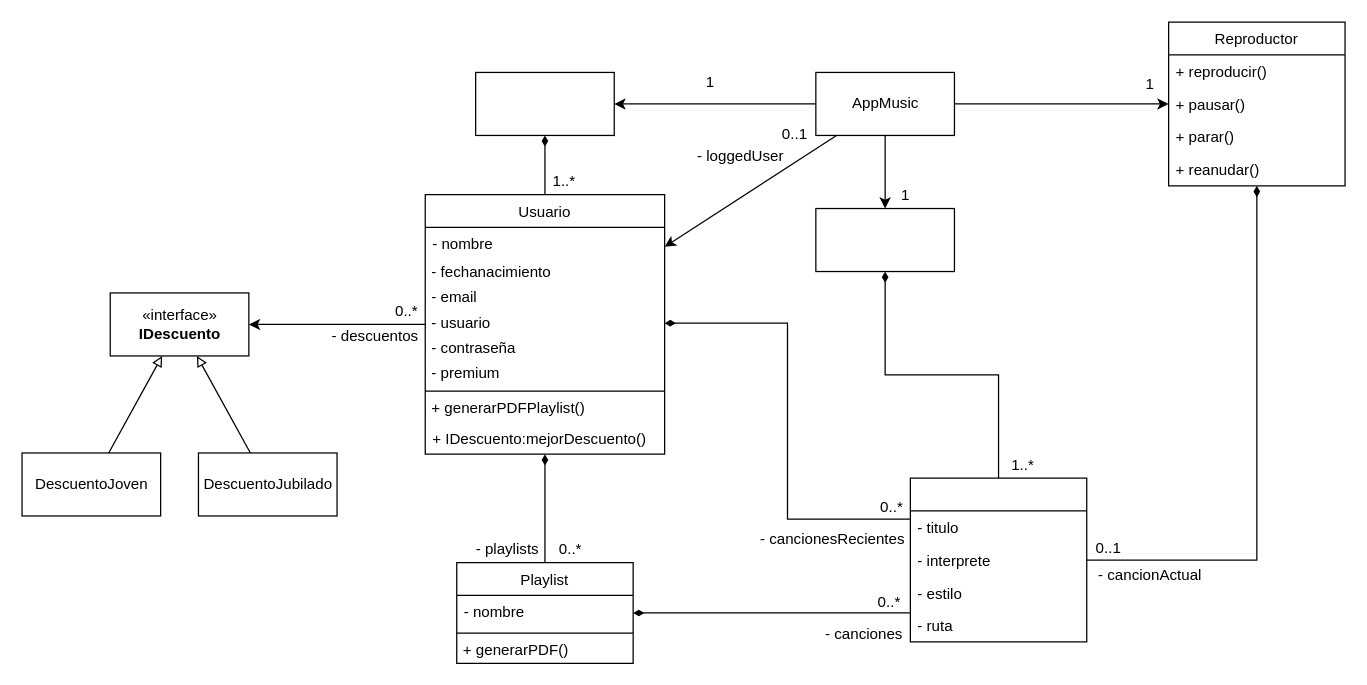
Some shapes in this 1367 by 685 pixel diagram are drawn without their labels. The box of each missing label's shape, as (x1, y1, x2, y2) in pixels:
Cancion: (909, 477, 1087, 642)
CatalogoCanciones: (815, 207, 954, 272)
CatalogoUsuarios: (474, 71, 614, 135)
